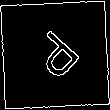P_SE: (23, 24, 87, 86)
